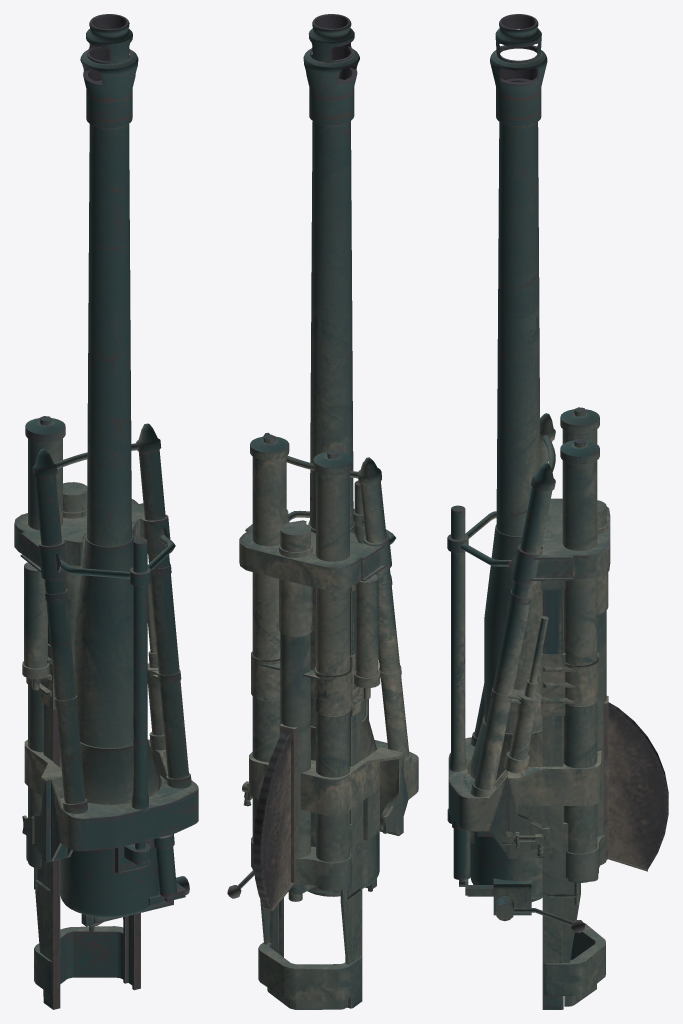
Rendered from Gun_01.glb.
The picture shows the model from 3 angles, left to right: view 1: azimuth 30°, elevation 25°; view 2: azimuth 150°, elevation 25°; view 3: azimuth 270°, elevation 25°; orthographic projection. The views are drawn at different scales.
Parts seen in each view (by area): view 1: set_0_group_0; view 2: set_0_group_0; view 3: set_0_group_0.
Boxes of the visible parts, x1=… form: set_0_group_0: x1=14, y1=14, x2=198, y2=1009; set_0_group_0: x1=227, y1=14, x2=418, y2=1009; set_0_group_0: x1=447, y1=14, x2=668, y2=1009.
Bounding box in the file's own units: 1.01 × 6.18 × 1.28.
Materials: 1 (1 with a texture image).
